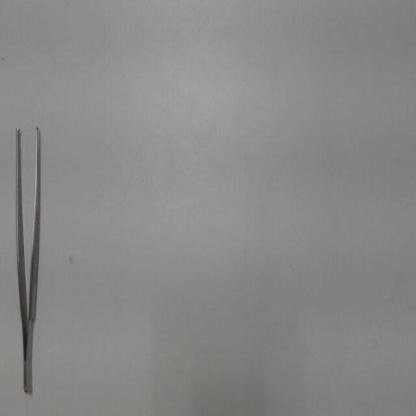Gillies Toothed Dissector: (13, 117, 46, 398)
